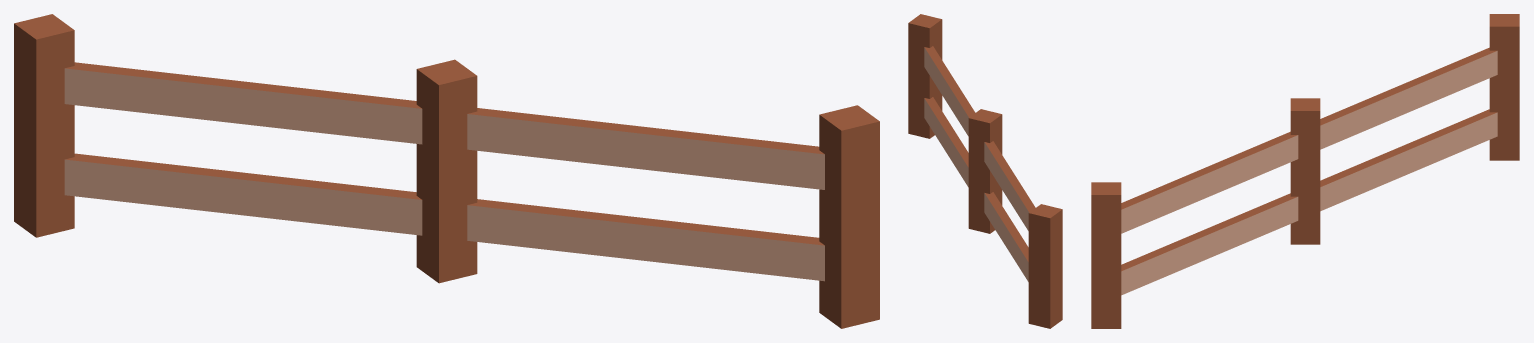
Rendered from fence_simpleDiagonalCenter.glb.
3 renders of one model, left to right at view 1: azimuth 30°, elevation 25°; view 2: azimuth 150°, elevation 25°; view 3: azimuth 270°, elevation 25°, orthographic. The views are drawn at different scales.
Parts seen in each view (by area): view 1: fence_simpleDiagonalCenter; view 2: fence_simpleDiagonalCenter; view 3: fence_simpleDiagonalCenter.
Part boxes in pixels (left/top/right/bottom): fence_simpleDiagonalCenter: left=14, top=14, right=879, bottom=328; fence_simpleDiagonalCenter: left=908, top=14, right=1062, bottom=328; fence_simpleDiagonalCenter: left=1091, top=14, right=1519, bottom=328.
Size of the model in its own units: 1 by 0.345 by 1.
